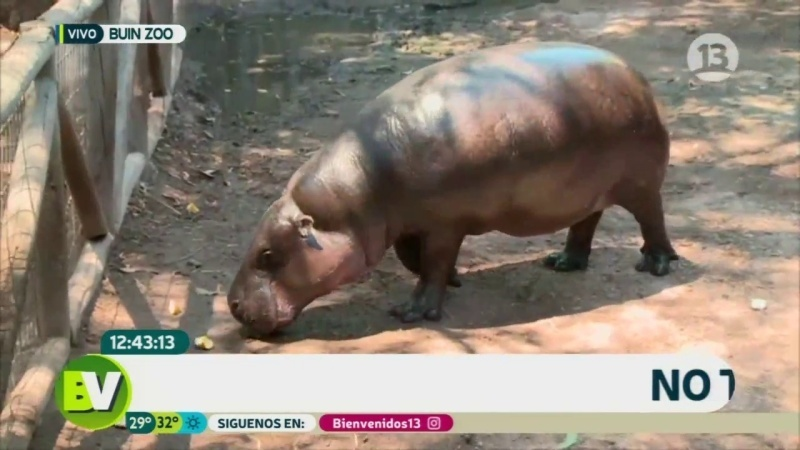hipopotamo: (194, 35, 686, 343)
